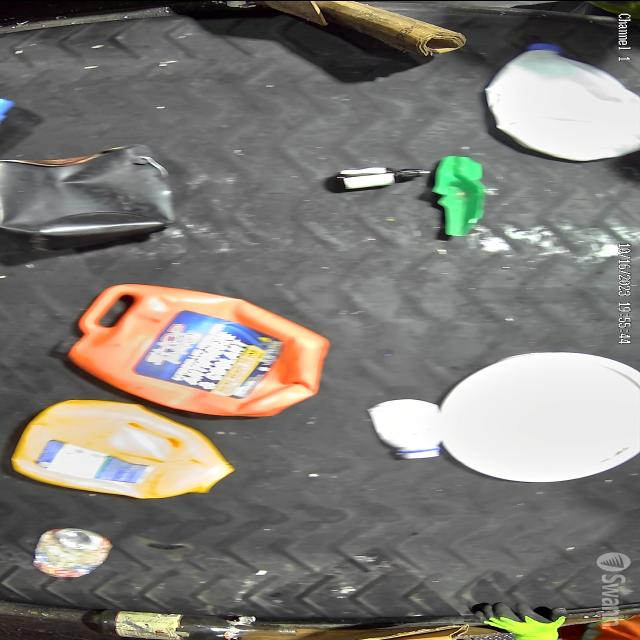can: (11, 524, 122, 578)
milk_jug: (473, 40, 640, 161)
non_white_jug: (65, 284, 339, 419), (3, 399, 242, 498)
